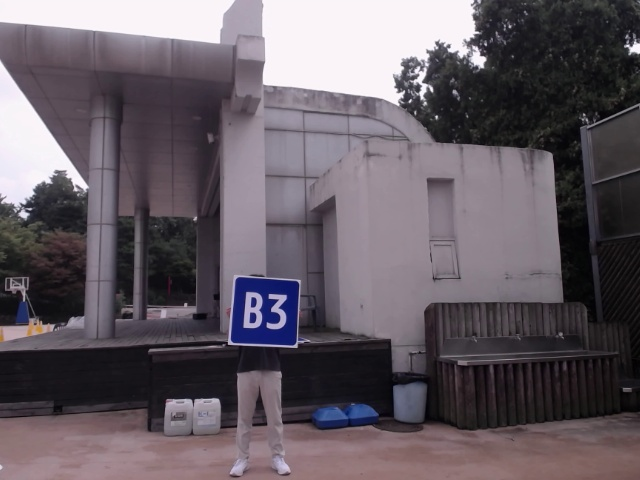delivery_b3: (231, 277, 301, 346)
